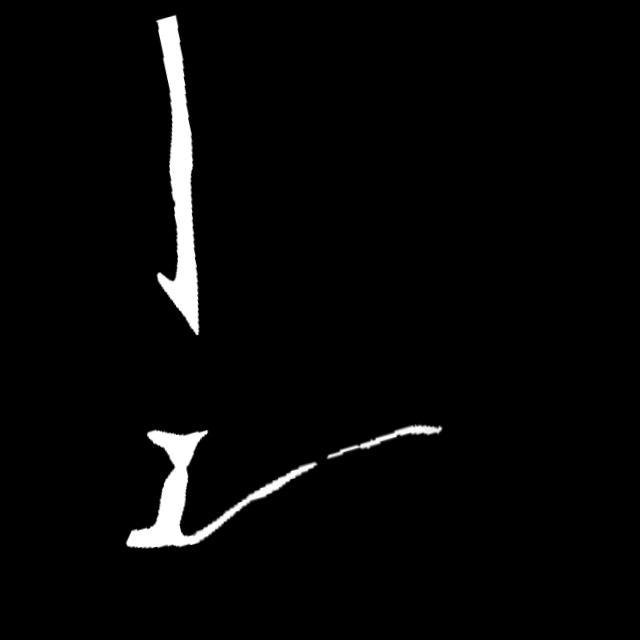sup: (314, 454, 334, 473)
